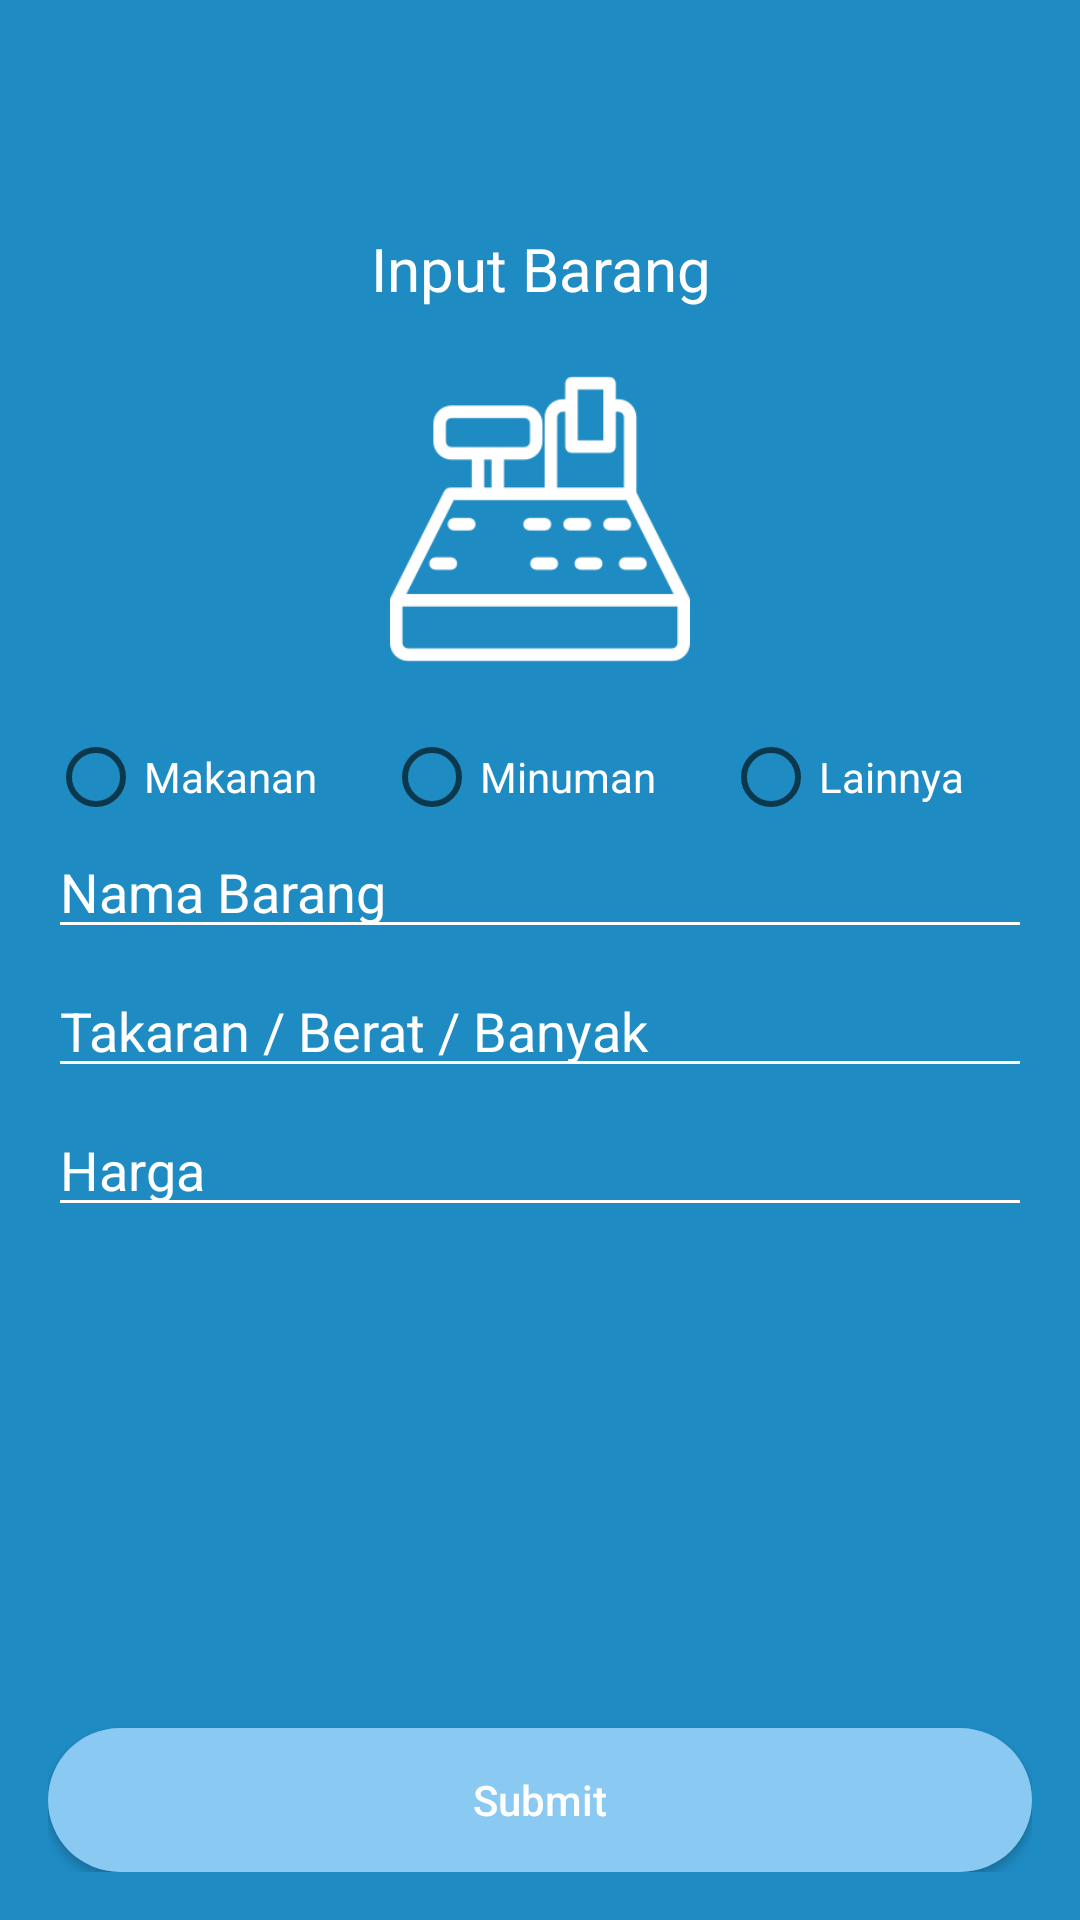

Screen size 1080 x 1920. Icon name, then its center in pixels as point (x, y):
cashier: point (540, 519)
